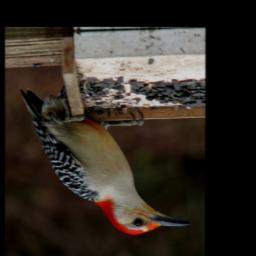Woodpecker: (18, 80, 191, 239)
